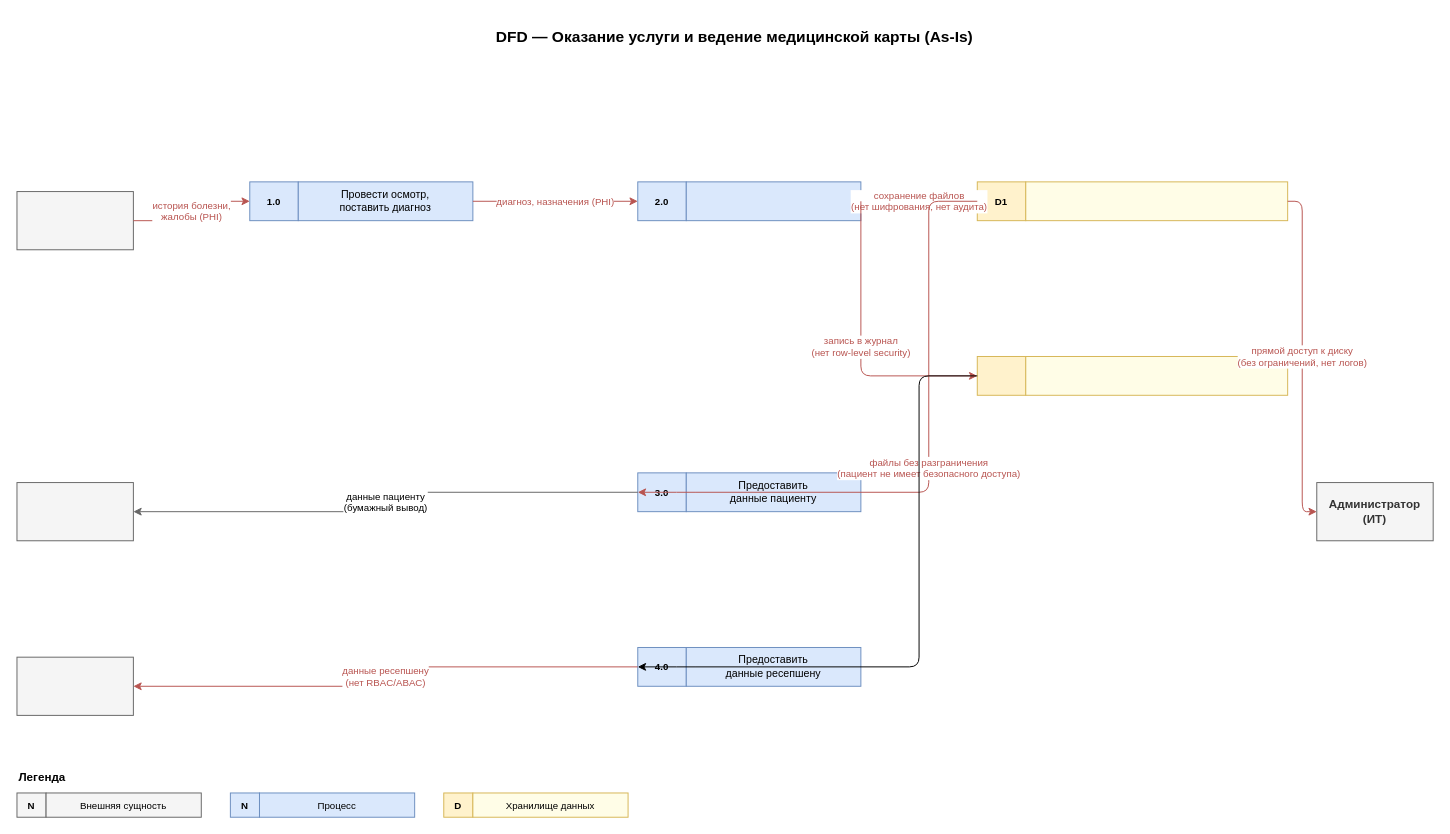
This 1450x834 diagram has some shape labels left out. The box of each missing label's shape, as (x1, y1, x2, y2) in pixels:
D2: (976, 356, 1026, 395)
Excel: Журнал приёма (PII + PHI): (1025, 356, 1288, 395)
Врач: (16, 191, 133, 250)
Зафиксировать заключение: (685, 181, 861, 221)
Пациент: (16, 482, 133, 541)
Ресепшен: (16, 656, 133, 715)
Файловый диск: JPG/PDF/Excel медицинские файлы (PHI): (1025, 181, 1288, 221)
